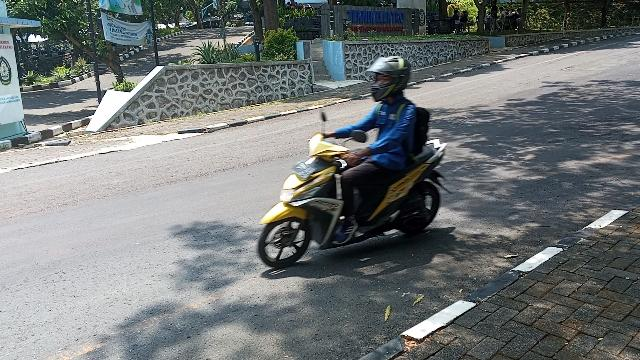helm: (366, 56, 415, 104)
motor: (256, 109, 456, 271)
